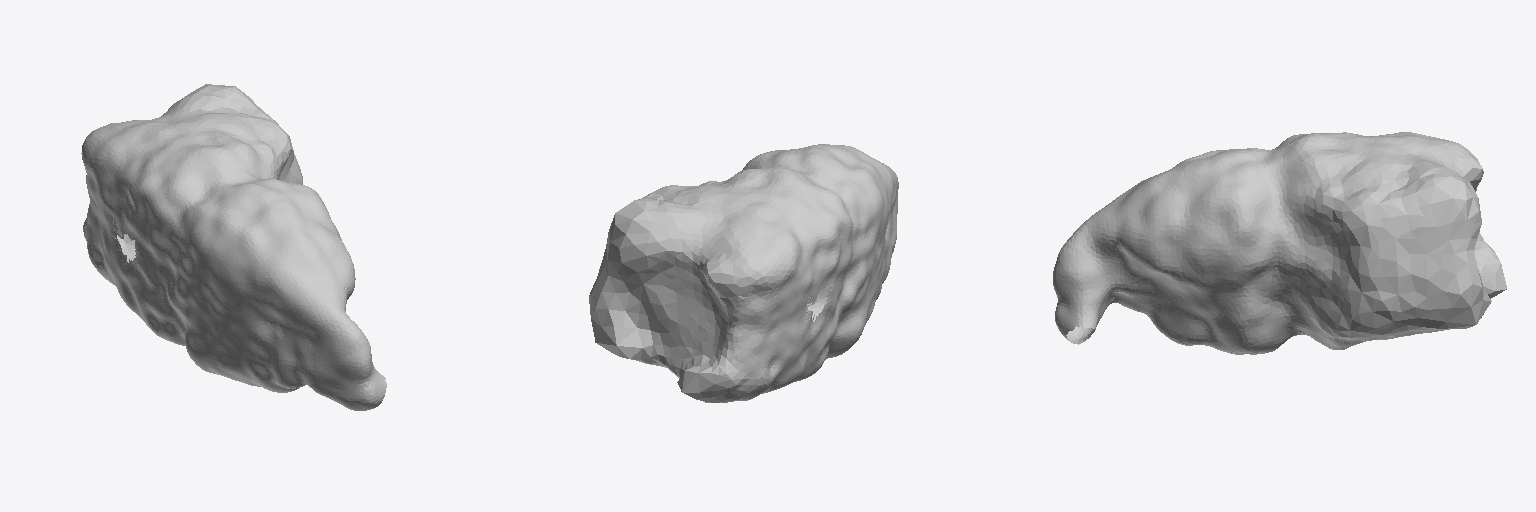
Rendered from mesh_1_cylinder_cut_wrapepd.obj.
3 renders of one model, left to right at view 1: azimuth 30°, elevation 25°; view 2: azimuth 150°, elevation 25°; view 3: azimuth 270°, elevation 25°, orthographic.
Size of the model in its own units: 452 by 464 by 923.